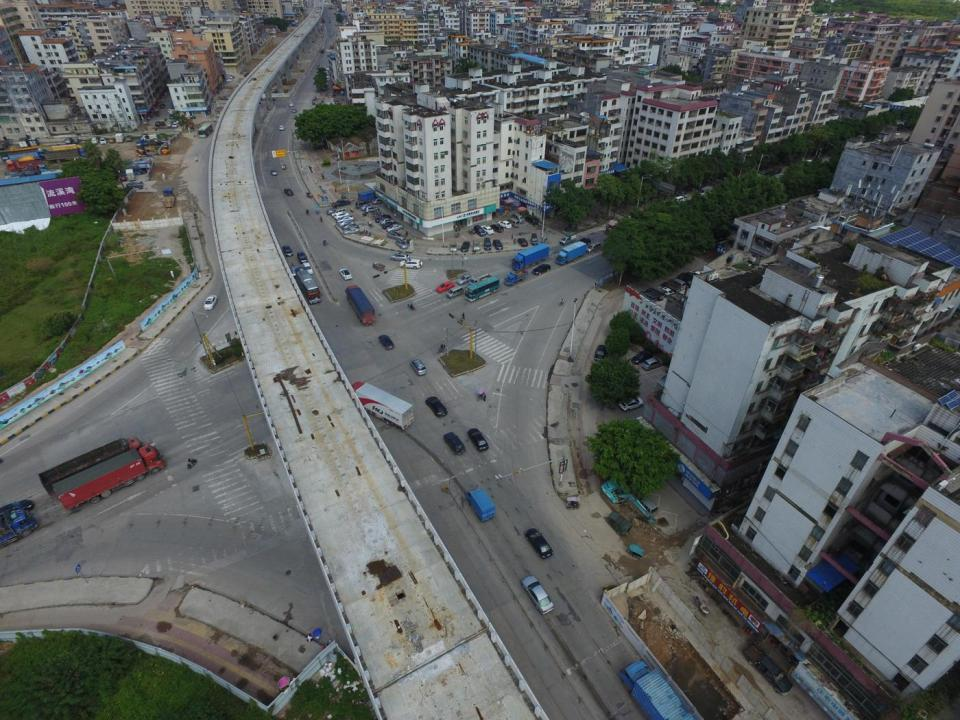bus: (221, 72, 249, 103), (296, 270, 322, 303), (198, 124, 213, 137)
car: (522, 576, 554, 614), (525, 529, 553, 558), (0, 498, 32, 517), (425, 396, 447, 417), (467, 428, 488, 450), (444, 432, 464, 455), (618, 396, 643, 412), (642, 357, 663, 370), (378, 334, 394, 350), (410, 360, 427, 375), (634, 351, 652, 364), (203, 295, 218, 310), (436, 280, 454, 292), (532, 264, 551, 275), (657, 284, 673, 297), (457, 272, 473, 285), (594, 346, 605, 362), (390, 253, 409, 262), (297, 251, 308, 265), (337, 216, 354, 225), (386, 223, 403, 232), (388, 232, 406, 240), (473, 225, 486, 236), (339, 269, 352, 280), (303, 262, 314, 275), (326, 207, 343, 215), (376, 214, 391, 223), (395, 239, 408, 249), (339, 220, 355, 228), (481, 225, 493, 235), (334, 212, 349, 220), (497, 221, 511, 229), (342, 223, 358, 230), (493, 239, 503, 250), (484, 238, 492, 251), (380, 217, 393, 225), (290, 266, 299, 277), (382, 222, 396, 229), (344, 228, 360, 234), (126, 182, 142, 188), (524, 217, 537, 224), (518, 238, 528, 247), (461, 241, 470, 251), (283, 246, 292, 256), (578, 238, 590, 245), (491, 224, 503, 231), (372, 198, 386, 204), (675, 190, 688, 196), (449, 241, 456, 252), (284, 188, 293, 196), (473, 240, 480, 250), (360, 204, 370, 210), (64, 137, 73, 143), (73, 136, 79, 144), (90, 138, 98, 143), (271, 170, 276, 176), (100, 137, 105, 143), (280, 125, 284, 130), (289, 102, 294, 106), (316, 62, 320, 66), (292, 109, 297, 112)
truck: (39, 438, 167, 515), (619, 659, 713, 720), (349, 382, 415, 430), (743, 644, 794, 694), (0, 507, 38, 558), (345, 285, 375, 327), (605, 209, 645, 235), (513, 242, 551, 269), (466, 488, 495, 523), (557, 240, 586, 264), (43, 148, 87, 163), (4, 164, 47, 177), (4, 151, 41, 166), (6, 159, 44, 170), (504, 268, 527, 286), (6, 156, 35, 168), (51, 145, 81, 156), (358, 190, 382, 203), (161, 188, 175, 207), (470, 273, 492, 285), (559, 232, 577, 245), (648, 286, 664, 300), (700, 186, 713, 199), (372, 261, 386, 271), (125, 169, 136, 181), (114, 133, 125, 143), (332, 200, 350, 206)
van: (608, 512, 632, 536), (637, 496, 657, 516), (400, 258, 422, 269), (447, 286, 464, 299), (640, 292, 656, 303), (511, 211, 524, 224), (672, 278, 686, 290), (588, 242, 600, 252), (508, 218, 518, 228), (331, 209, 345, 216), (356, 201, 368, 208), (532, 232, 538, 245), (366, 206, 378, 212)
